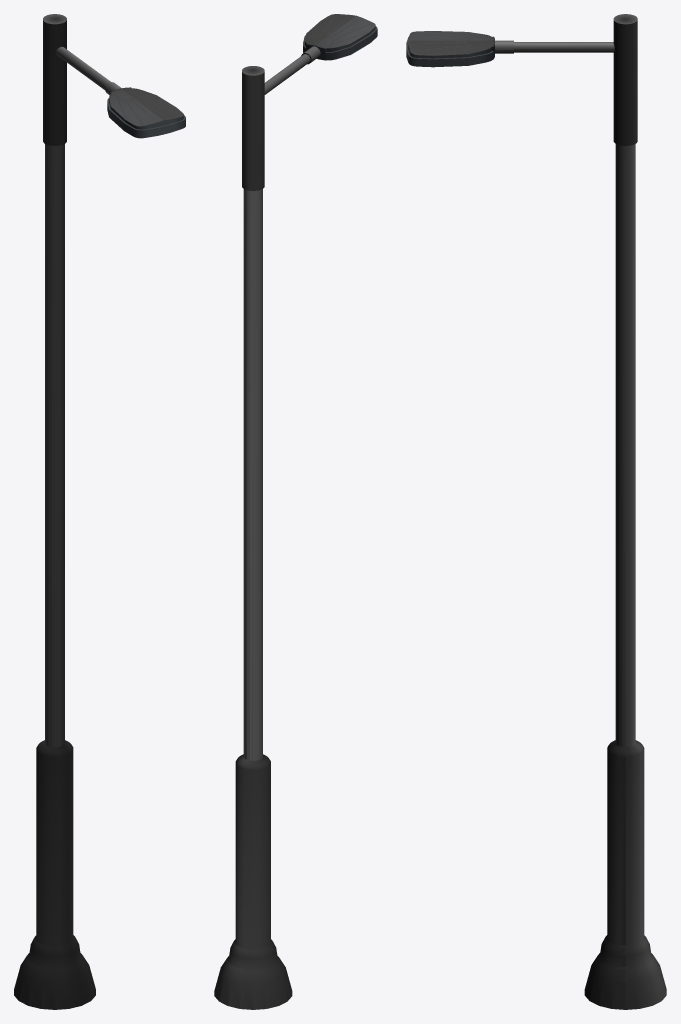
3 views of the same model, side by side, from view 1: azimuth 30°, elevation 25°; view 2: azimuth 150°, elevation 25°; view 3: azimuth 270°, elevation 25° (orthographic). The views are drawn at different scales.
Visible parts, largest first — view 1: MainBuilding; view 2: MainBuilding; view 3: MainBuilding.
Boxes of the visible parts, left/top/right/bottom form: MainBuilding: left=14, top=14, right=185, bottom=1009; MainBuilding: left=214, top=14, right=377, bottom=1009; MainBuilding: left=406, top=14, right=666, bottom=1009.
Size of the model in its own units: 0.7004 by 9.04 by 2.19.
Materials: 1 (1 with a texture image).
